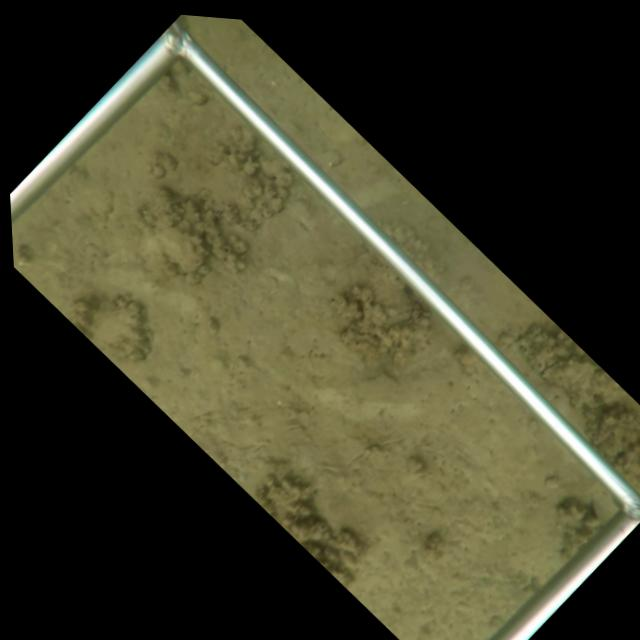Oyster-Indeterminate: (153, 224, 212, 277), (537, 357, 599, 394)
